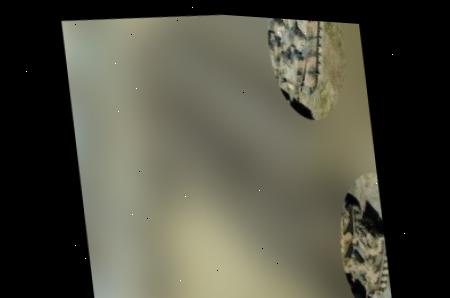armored_car: (336, 204, 392, 298)
tank: (270, 18, 333, 98)
